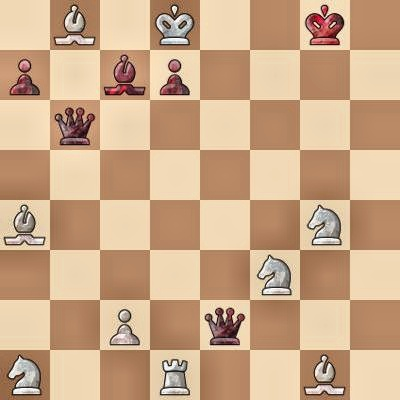black-bishop: (100, 50, 150, 100)
black-king: (300, 0, 350, 50)
black-pawn: (0, 50, 50, 100), (150, 50, 200, 100)
black-queen: (50, 100, 100, 150), (200, 300, 250, 350)
white-bishop: (50, 0, 100, 50), (0, 200, 50, 250), (300, 350, 350, 400)
white-king: (150, 0, 200, 50)
white-knight: (300, 200, 350, 250), (250, 250, 300, 300), (0, 350, 50, 400)
white-pawn: (100, 300, 150, 350)
white-rook: (150, 350, 200, 400)
